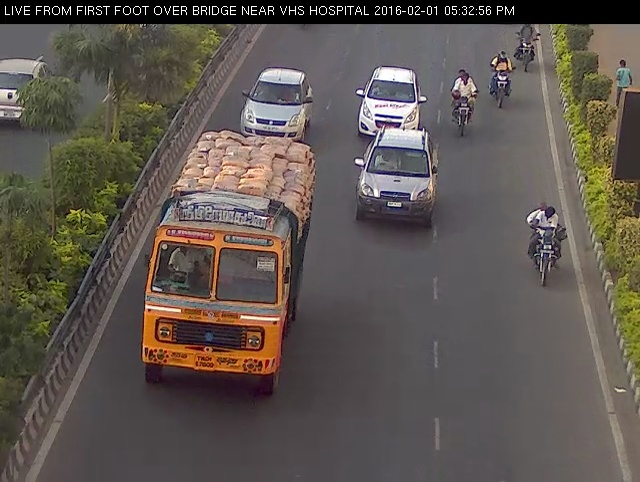Bus: (132, 126, 321, 405)
Car: (349, 118, 445, 237), (231, 59, 322, 147), (346, 60, 429, 144)
Person: (515, 186, 582, 295), (443, 61, 481, 143), (481, 39, 519, 119), (513, 13, 544, 79)
